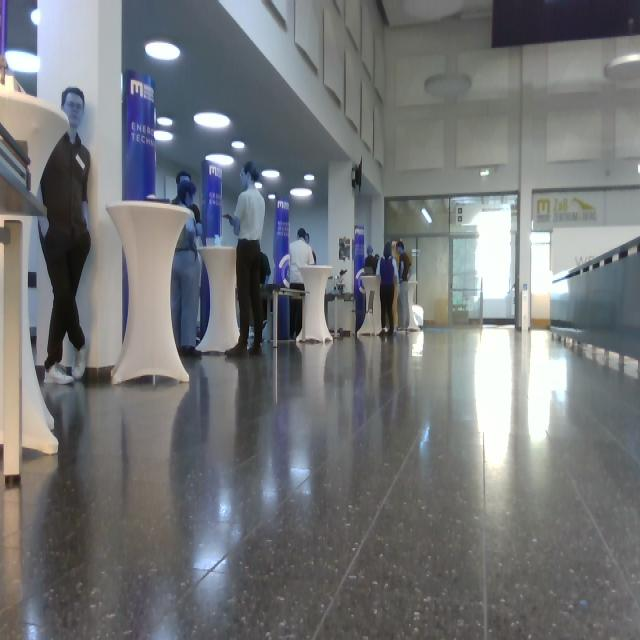door: (417, 236, 450, 326)
light bulb: (425, 73, 472, 98), (604, 53, 640, 81), (5, 49, 41, 74), (145, 41, 181, 61), (194, 112, 231, 129), (206, 153, 235, 166), (154, 131, 173, 143), (290, 188, 313, 197), (262, 169, 280, 180), (31, 8, 41, 26), (422, 208, 433, 224), (158, 117, 173, 126), (232, 140, 245, 149), (304, 174, 315, 181), (255, 182, 263, 189), (268, 193, 276, 200)
person: (38, 86, 92, 385), (223, 161, 266, 358), (171, 180, 203, 358), (289, 228, 316, 341), (377, 241, 399, 336)
table: (105, 199, 197, 391)
tiled floor: (2, 323, 639, 639)
